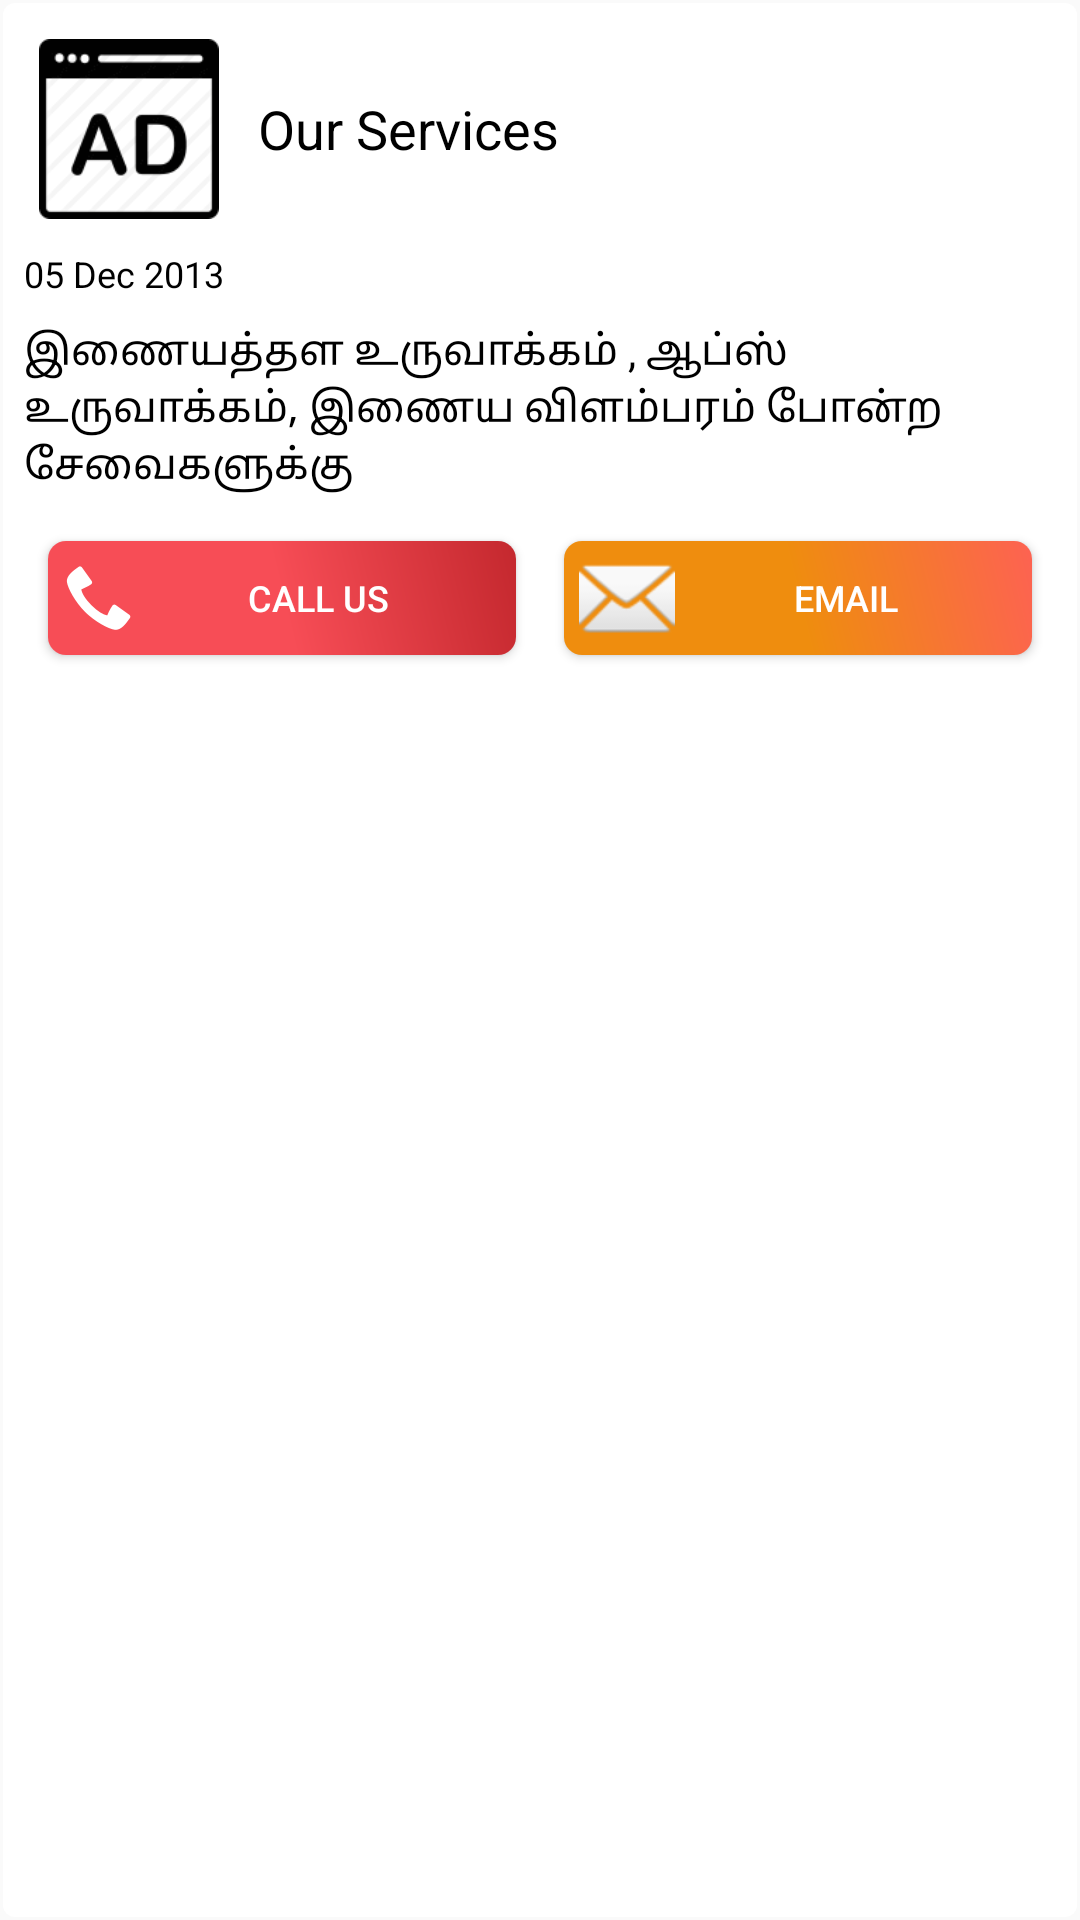

Icon bounding boxes for this 1080 × 1920 phone screenshot, format (x1, y1, x2, y2):
ad images: (39, 39, 219, 219)
